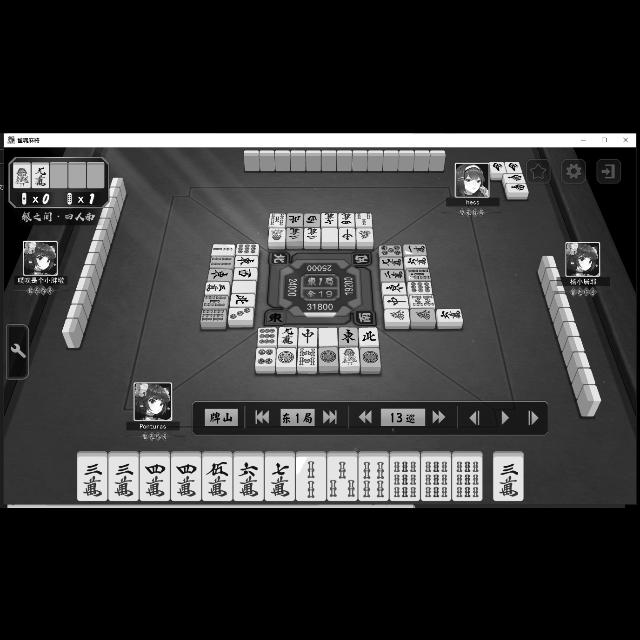1m: (402, 242, 428, 254)
1p: (317, 346, 338, 366), (361, 346, 382, 366), (277, 347, 295, 367)
1s: (14, 162, 31, 188), (340, 346, 360, 366), (268, 227, 284, 241)
2m: (380, 268, 406, 280), (286, 227, 302, 241), (305, 227, 321, 241)
2s: (296, 456, 326, 499), (211, 243, 235, 255)
3m: (76, 456, 108, 502), (108, 457, 138, 501), (493, 456, 523, 500), (204, 282, 230, 292)
3p: (228, 306, 252, 320)
3s: (328, 456, 358, 499), (356, 212, 372, 226)
4m: (171, 456, 201, 502), (139, 456, 169, 500), (338, 212, 354, 225)
4p: (256, 348, 274, 367)
4s: (358, 456, 388, 500), (210, 256, 232, 268)
5m: (202, 456, 232, 500)
5p: (378, 244, 402, 256)
5s: (202, 294, 228, 308), (406, 268, 432, 280), (268, 212, 286, 226)
6m: (233, 456, 264, 499), (437, 308, 463, 322), (403, 255, 429, 267)
6s: (200, 308, 226, 322)
7m: (265, 456, 295, 500), (322, 211, 338, 225)
8s: (298, 346, 316, 366), (410, 295, 436, 307)
9m: (32, 162, 48, 188), (278, 326, 296, 346), (380, 256, 402, 268)
9p: (408, 280, 432, 294), (258, 327, 276, 345), (236, 242, 258, 254)
9s: (390, 456, 420, 500), (452, 456, 482, 499), (423, 456, 451, 500)
chun: (297, 326, 317, 346), (383, 294, 409, 308), (340, 228, 356, 242)
haku: (318, 327, 338, 345), (232, 280, 256, 292), (322, 227, 338, 241)
hatsu: (384, 308, 410, 322), (410, 309, 436, 321), (356, 228, 374, 240)
nan: (504, 182, 530, 192), (489, 160, 506, 172), (506, 160, 522, 172), (504, 173, 526, 181)
pe: (359, 327, 379, 345), (228, 294, 256, 306), (287, 212, 303, 226)
sha: (234, 268, 256, 280), (304, 212, 320, 228)
tou: (339, 327, 358, 345), (382, 280, 406, 294), (208, 268, 232, 280), (235, 256, 257, 266)
